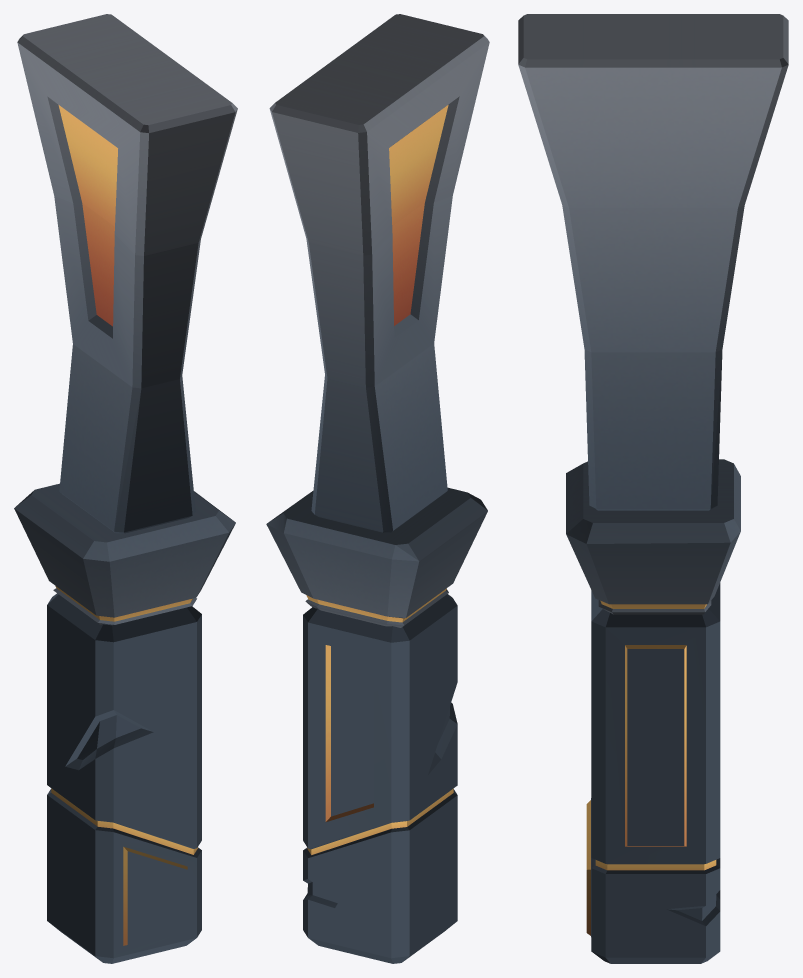
The model's file is ayd_X01_stone3.obj.
3 views of the same model, side by side, from view 1: azimuth 30°, elevation 25°; view 2: azimuth 150°, elevation 25°; view 3: azimuth 270°, elevation 25° (orthographic). The views are drawn at different scales.
Visible parts, largest first — view 1: Alien_blockD_(1), Alien_blockA, Alien_blockC_(1); view 2: Alien_blockD_(1), Alien_blockA, Alien_blockC_(1); view 3: Alien_blockD_(1), Alien_blockA, Alien_blockC_(1).
Part boxes in pixels (x1,y1,x2,y2): Alien_blockD_(1): (17,14,237,533); Alien_blockA: (47,593,201,963); Alien_blockC_(1): (14,483,235,624); Alien_blockD_(1): (269,14,489,532); Alien_blockA: (303,594,457,963); Alien_blockC_(1): (266,487,487,627); Alien_blockD_(1): (518,14,788,510); Alien_blockA: (586,583,720,963); Alien_blockC_(1): (566,459,740,614).
Size of the model in its own units: 504 by 2723 by 737.
